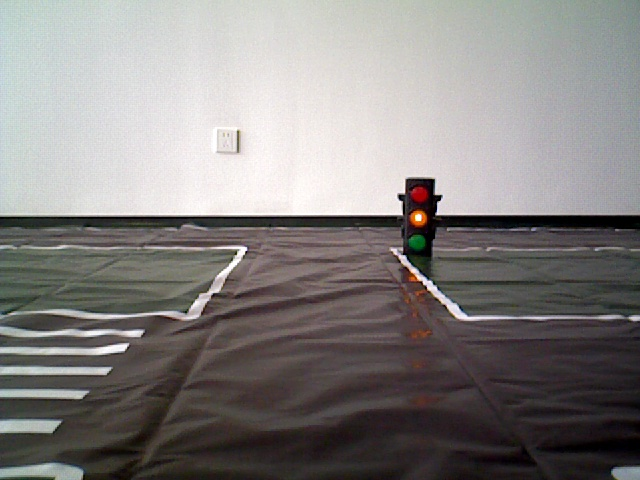yellow: (404, 179, 436, 260)
